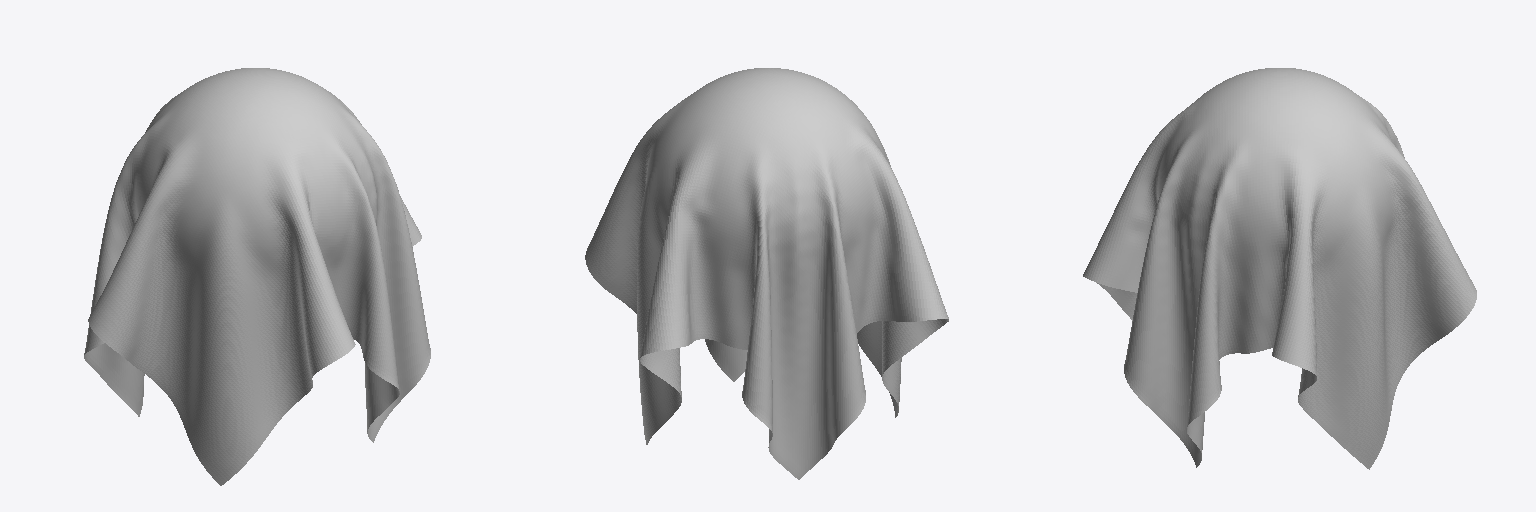
The model's file is croth.obj.
The picture shows the model from 3 angles: view 1: azimuth 30°, elevation 25°; view 2: azimuth 150°, elevation 25°; view 3: azimuth 270°, elevation 25°; orthographic projection.
Visible parts, largest first — view 1: default; view 2: default; view 3: default.
Part boxes in pixels (left/top/right/bottom): default: left=84, top=68, right=430, bottom=485; default: left=585, top=68, right=948, bottom=479; default: left=1083, top=68, right=1476, bottom=469.
Bounding box in the file's own units: 3.22 × 3.18 × 3.22.